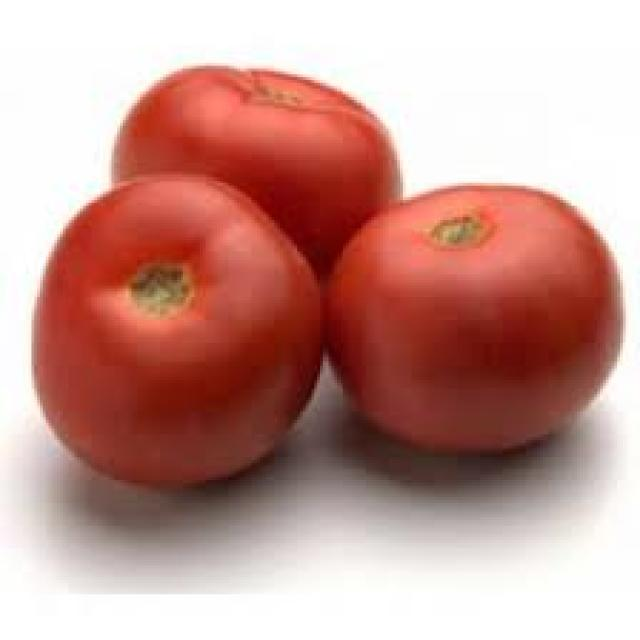Fresh_tomato: (36, 176, 311, 481), (355, 152, 605, 484), (137, 55, 386, 233)
